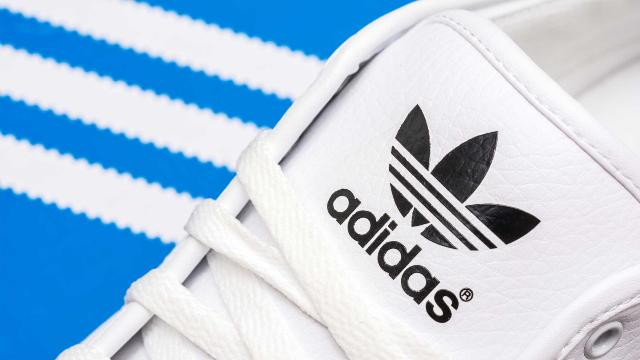Adidas: (311, 74, 586, 342), (352, 72, 584, 297), (313, 170, 482, 332)
